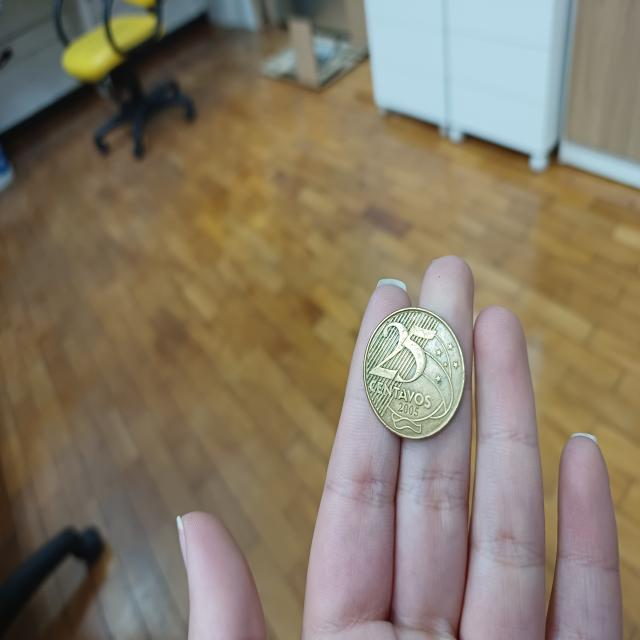25 cents: (359, 302, 466, 442)
